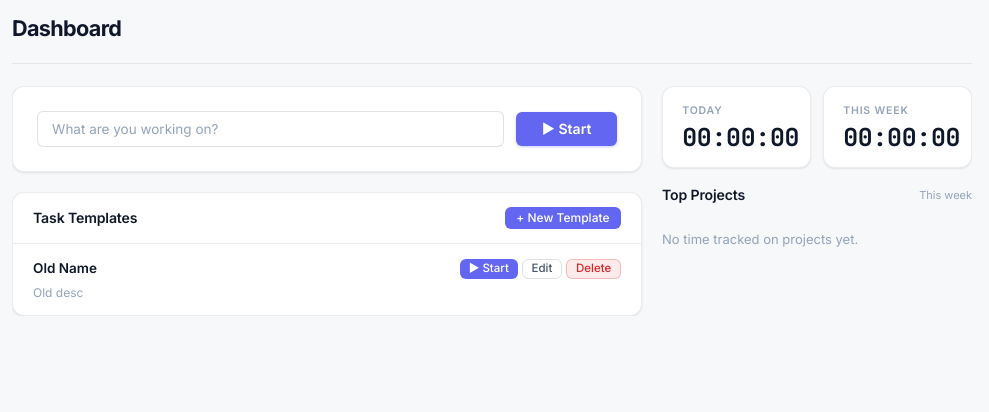
Scenario: DashboardPage — Task Templates (US-027) › Edit button opens inline edit form pre-filled with template data
Step 1. Click the button with test id "template-edit-btn-4" → (542, 269), box [522, 259, 562, 279]
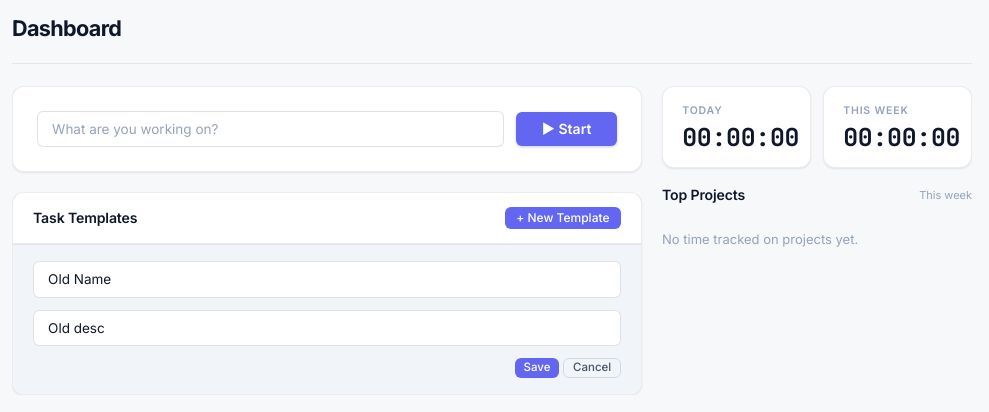
Check: the form with test id "template-edit-form-4" is shown, box [13, 244, 641, 394]
Check: the field with test id "template-edit-name-4" holds "Old Name", box [33, 261, 621, 298]
Check: the field with test id "template-edit-desc-4" holds "Old desc", box [33, 310, 621, 346]
